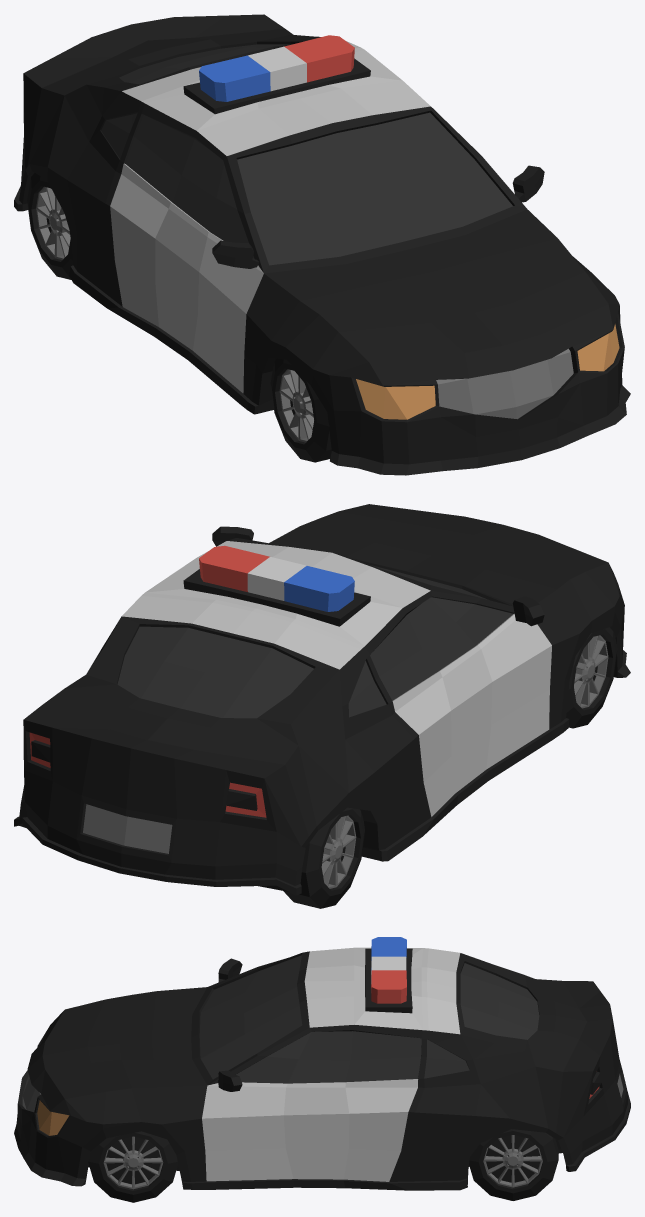
Rendered from police_car.glb.
3 views of the same model, one above another, from view 1: azimuth 30°, elevation 25°; view 2: azimuth 150°, elevation 25°; view 3: azimuth 270°, elevation 25° (orthographic). The views are drawn at different scales.
Parts seen in each view (by area): view 1: Cop_Cube.001_8d6156, Cop_Cube.001_d3fe31, Cop_Cube.001_42fd62, Cop_Cube.001_ea95b2, Cop_Cube.001, Cop_Cube.001_8f2900, Cop_FrontRightWheel_Cylinder.012, Cop_FrontRightWheel_Cylinder.012_2f7429, Cop_BackWheels_Cylinder.001_43010a, Cop_Cube.001_4e6312, Cop_BackWheels_Cylinder.001_1526d9; view 2: Cop_Cube.001_8d6156, Cop_Cube.001_42fd62, Cop_Cube.001_d3fe31, Cop_Cube.001, Cop_BackWheels_Cylinder.001_1526d9, Cop_Cube.001_ea95b2, Cop_FrontRightWheel_Cylinder.012, Cop_FrontRightWheel_Cylinder.012_2f7429, Cop_BackWheels_Cylinder.001_43010a, Cop_Cube.001_4e6312; view 3: Cop_Cube.001_8d6156, Cop_Cube.001_42fd62, Cop_Cube.001_d3fe31, Cop_BackWheels_Cylinder.001_1526d9, Cop_FrontLeftWheel_Cylinder.011_0a4591, Cop_Cube.001, Cop_BackWheels_Cylinder.001_43010a, Cop_FrontLeftWheel_Cylinder.011_e3e55b, Cop_Cube.001_8f2900, Cop_Cube.001_4e6312, Cop_Cube.001_ea95b2.
Boxes of the visible parts, bbox=[...] form: Cop_Cube.001_8d6156: bbox=[14, 14, 630, 475]; Cop_Cube.001_d3fe31: bbox=[101, 44, 512, 265]; Cop_Cube.001_42fd62: bbox=[110, 41, 430, 393]; Cop_Cube.001_ea95b2: bbox=[436, 348, 573, 419]; Cop_Cube.001: bbox=[199, 35, 354, 101]; Cop_Cube.001_8f2900: bbox=[356, 324, 619, 419]; Cop_FrontRightWheel_Cylinder.012: bbox=[270, 358, 331, 462]; Cop_FrontRightWheel_Cylinder.012_2f7429: bbox=[279, 369, 313, 442]; Cop_BackWheels_Cylinder.001_43010a: bbox=[36, 186, 70, 259]; Cop_Cube.001_4e6312: bbox=[248, 46, 306, 91]; Cop_BackWheels_Cylinder.001_1526d9: bbox=[27, 173, 73, 279]; Cop_Cube.001_8d6156: bbox=[14, 504, 630, 895]; Cop_Cube.001_42fd62: bbox=[122, 541, 551, 816]; Cop_Cube.001_d3fe31: bbox=[117, 565, 513, 718]; Cop_Cube.001: bbox=[29, 545, 354, 817]; Cop_BackWheels_Cylinder.001_1526d9: bbox=[283, 807, 364, 908]; Cop_Cube.001_ea95b2: bbox=[83, 804, 172, 853]; Cop_FrontRightWheel_Cylinder.012: bbox=[566, 627, 617, 728]; Cop_FrontRightWheel_Cylinder.012_2f7429: bbox=[574, 635, 608, 708]; Cop_BackWheels_Cylinder.001_43010a: bbox=[321, 815, 356, 888]; Cop_Cube.001_4e6312: bbox=[247, 557, 306, 600]; Cop_Cube.001_8d6156: bbox=[14, 948, 630, 1190]; Cop_Cube.001_42fd62: bbox=[202, 947, 460, 1181]; Cop_Cube.001_d3fe31: bbox=[199, 955, 539, 1083]; Cop_BackWheels_Cylinder.001_1526d9: bbox=[469, 1129, 558, 1200]; Cop_FrontLeftWheel_Cylinder.011_0a4591: bbox=[88, 1131, 178, 1202]; Cop_Cube.001: bbox=[371, 937, 599, 1098]; Cop_BackWheels_Cylinder.001_43010a: bbox=[483, 1135, 542, 1187]; Cop_FrontLeftWheel_Cylinder.011_e3e55b: bbox=[103, 1136, 163, 1189]; Cop_Cube.001_8f2900: bbox=[37, 1100, 69, 1135]; Cop_Cube.001_4e6312: bbox=[371, 956, 406, 983]; Cop_Cube.001_ea95b2: bbox=[22, 1074, 623, 1112].
Size of the model in its own units: 2.3 by 1.6 by 4.82.
